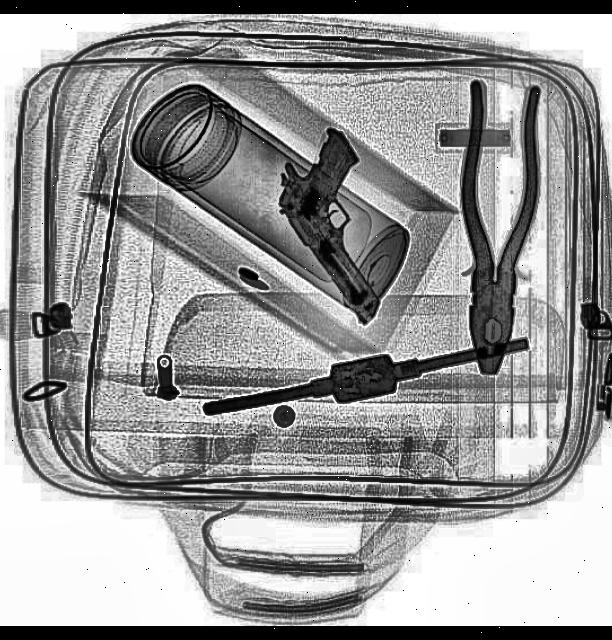Gun: (255, 122, 437, 328)
Pliers: (453, 79, 539, 377)
